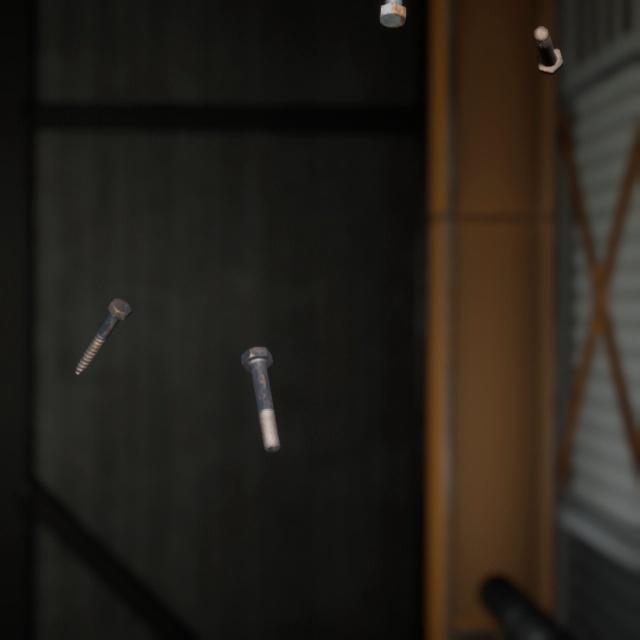bolt: (70, 275, 136, 361), (236, 322, 285, 437), (529, 12, 568, 70), (374, 0, 411, 30)
